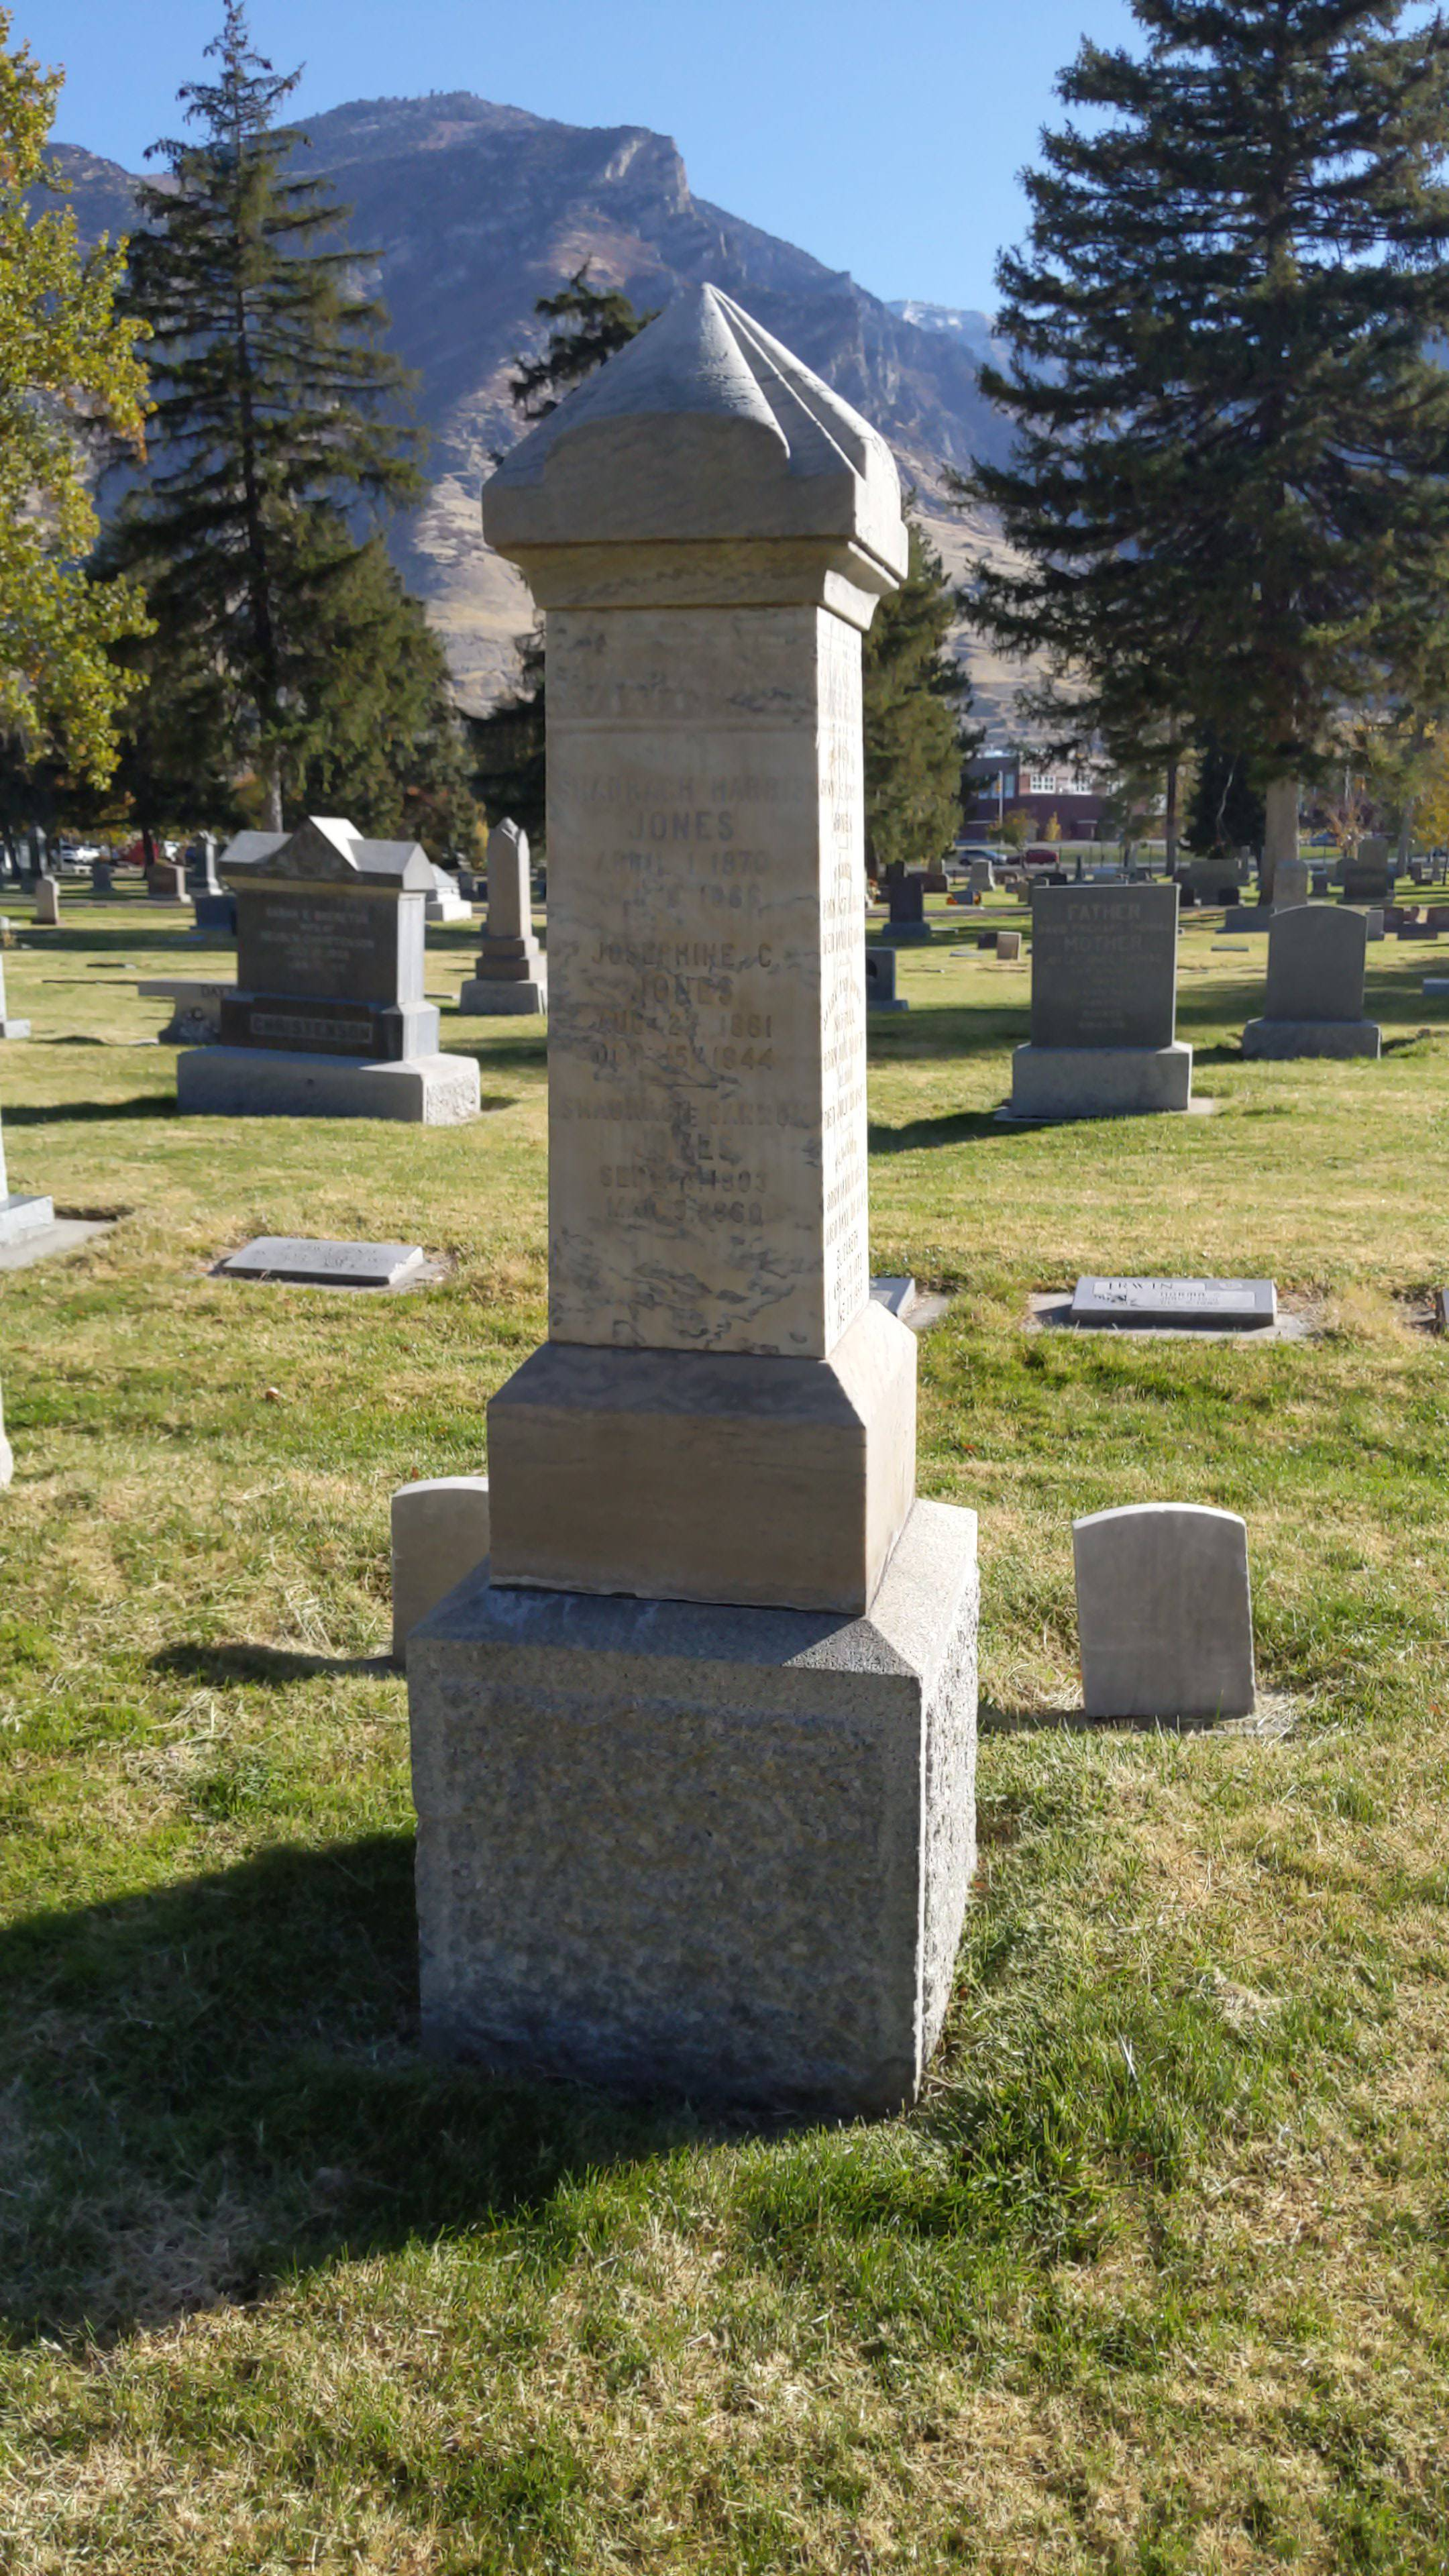obelisk: (487, 276, 924, 1615)
